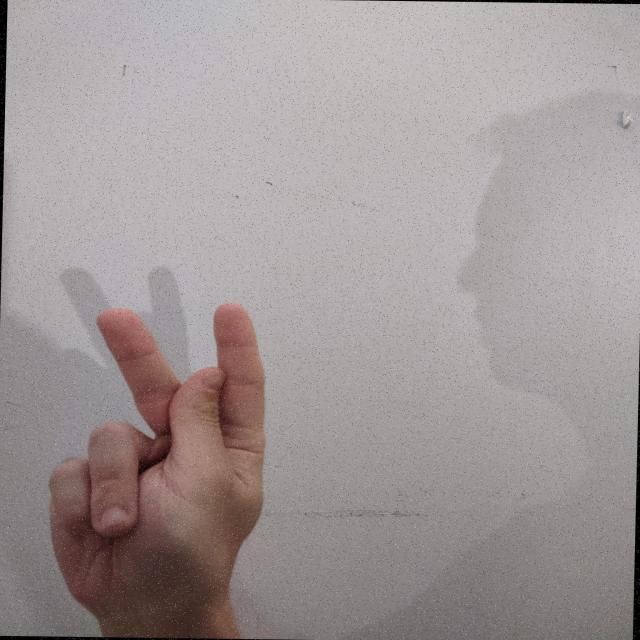K: (41, 296, 278, 630)
